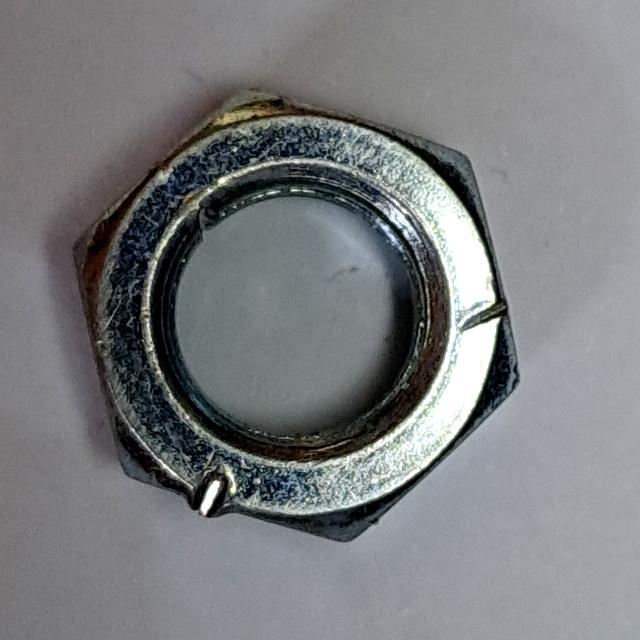Scratches: (62, 69, 539, 558)
